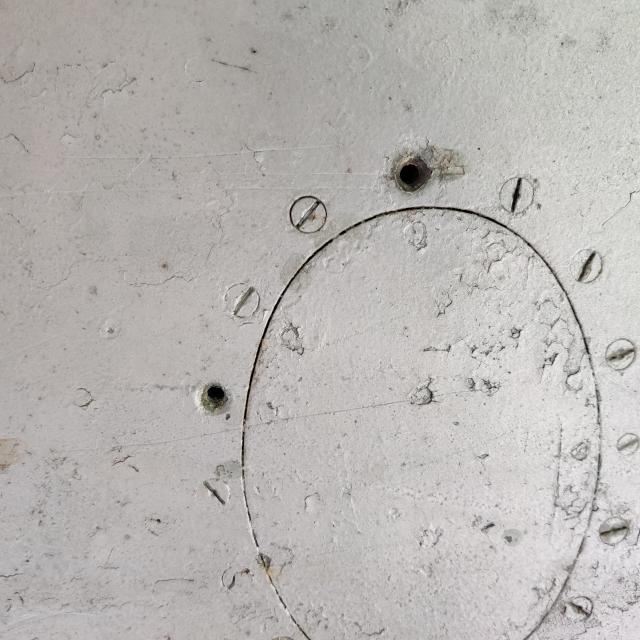missing-head: (371, 136, 461, 220), (175, 362, 258, 440)
